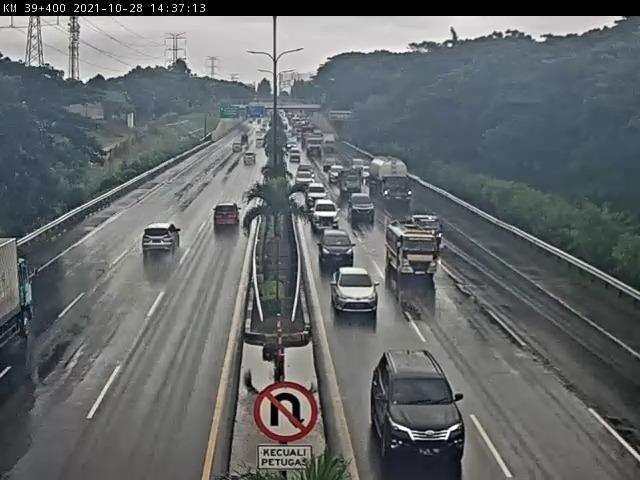car: (370, 346, 462, 462), (332, 267, 378, 316), (412, 211, 451, 249), (319, 229, 356, 269), (141, 222, 182, 256), (349, 193, 378, 223), (312, 200, 340, 230), (214, 202, 241, 228), (307, 182, 327, 206), (295, 171, 316, 191), (330, 168, 344, 187), (244, 154, 258, 169), (290, 148, 302, 163), (232, 144, 243, 155)
truck: (2, 228, 41, 394), (384, 220, 440, 279), (370, 157, 413, 206), (338, 170, 365, 197)
